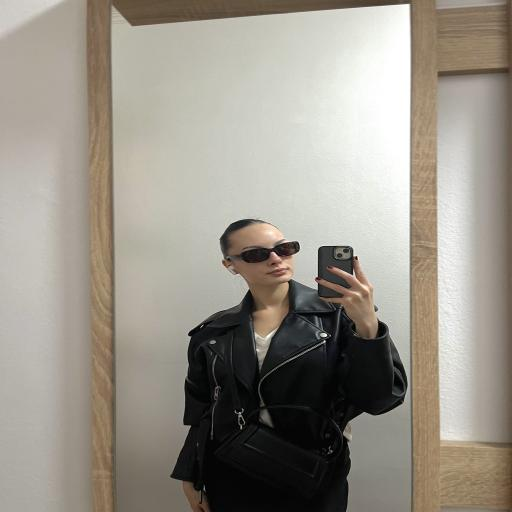marija: (224, 222, 302, 288)
